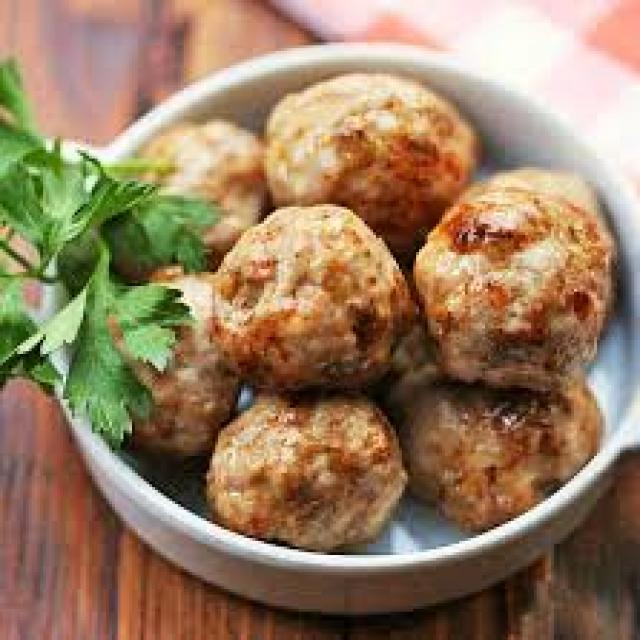Meatball: (396, 177, 627, 391), (209, 199, 423, 401), (376, 361, 612, 521), (255, 65, 473, 235), (204, 392, 410, 548)
